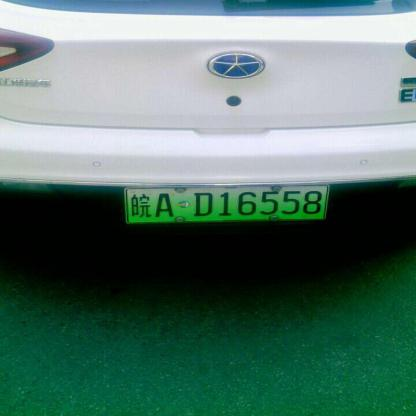lp: (126, 185, 327, 222)
